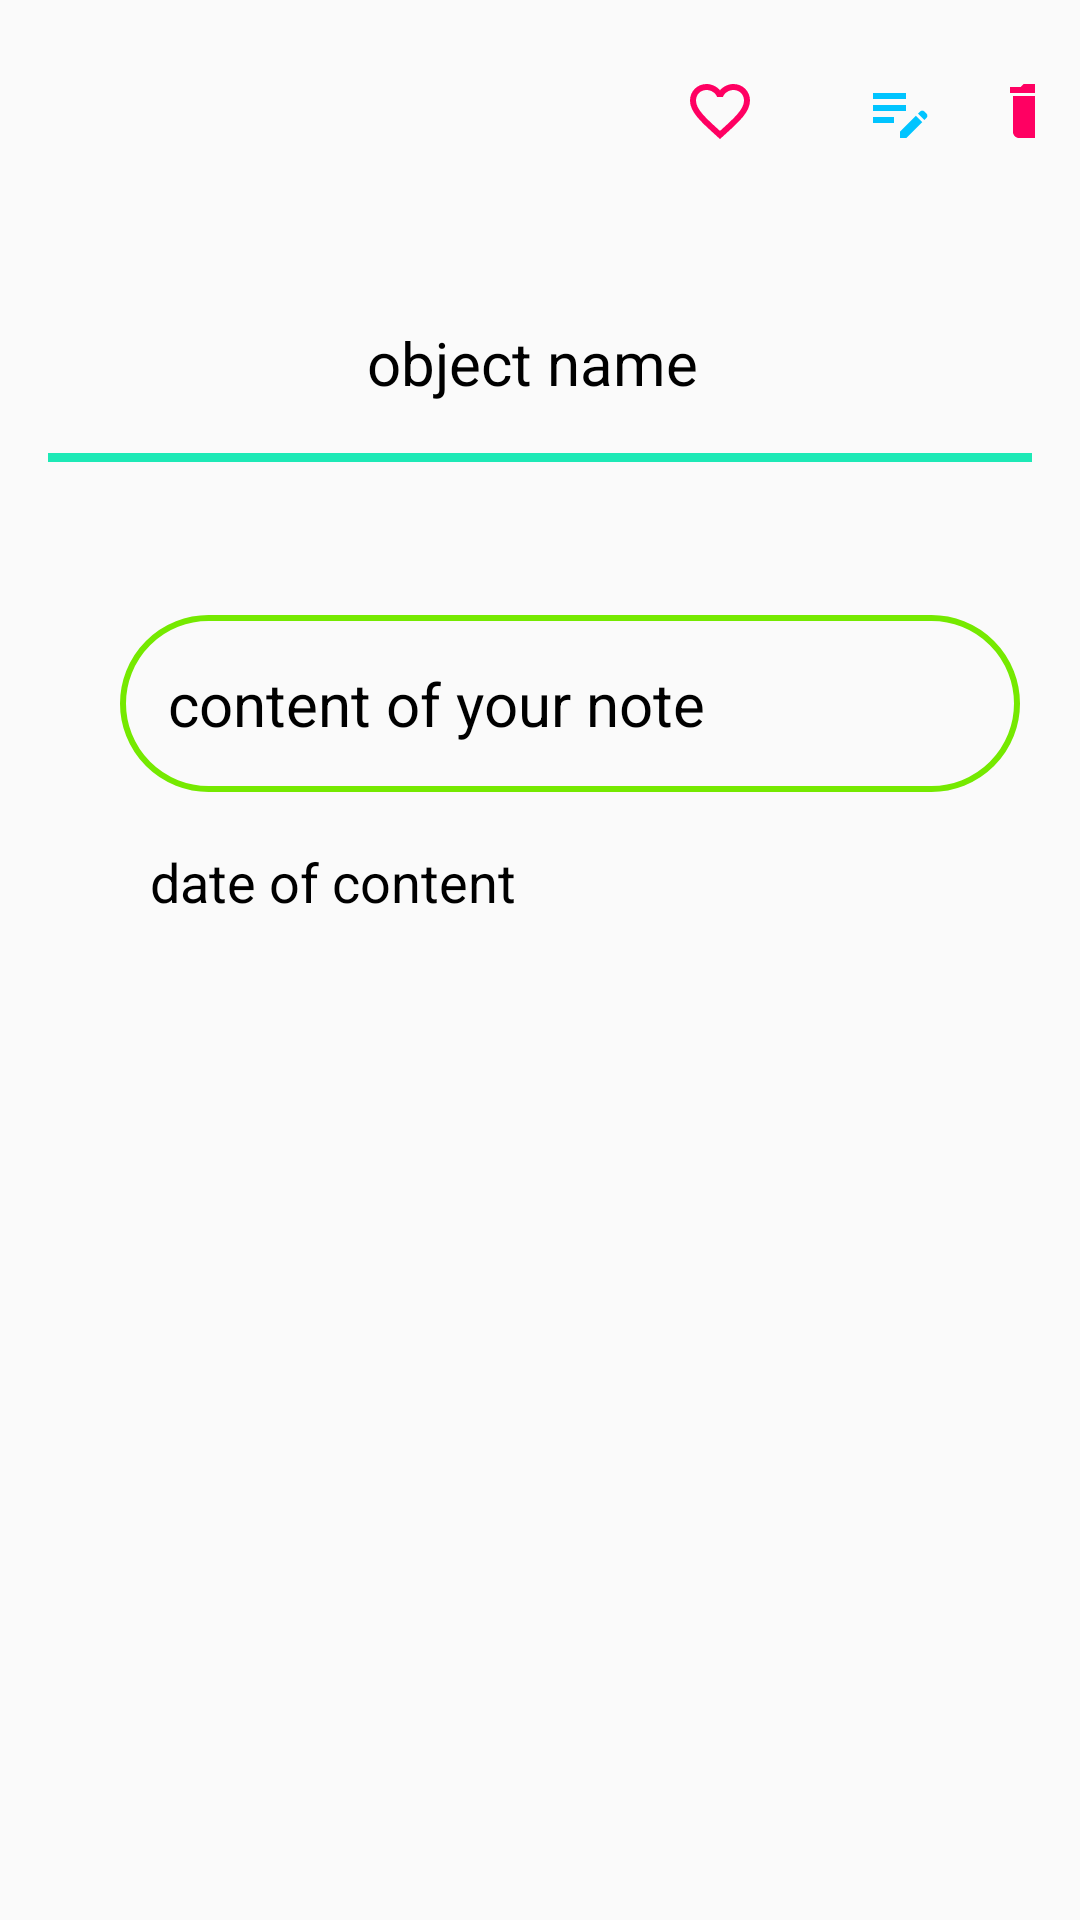

Point at icon controls on the screen. Image size 1080x1920, points as [x,y].
edit: [900,115]
favorite false: [720,111]
